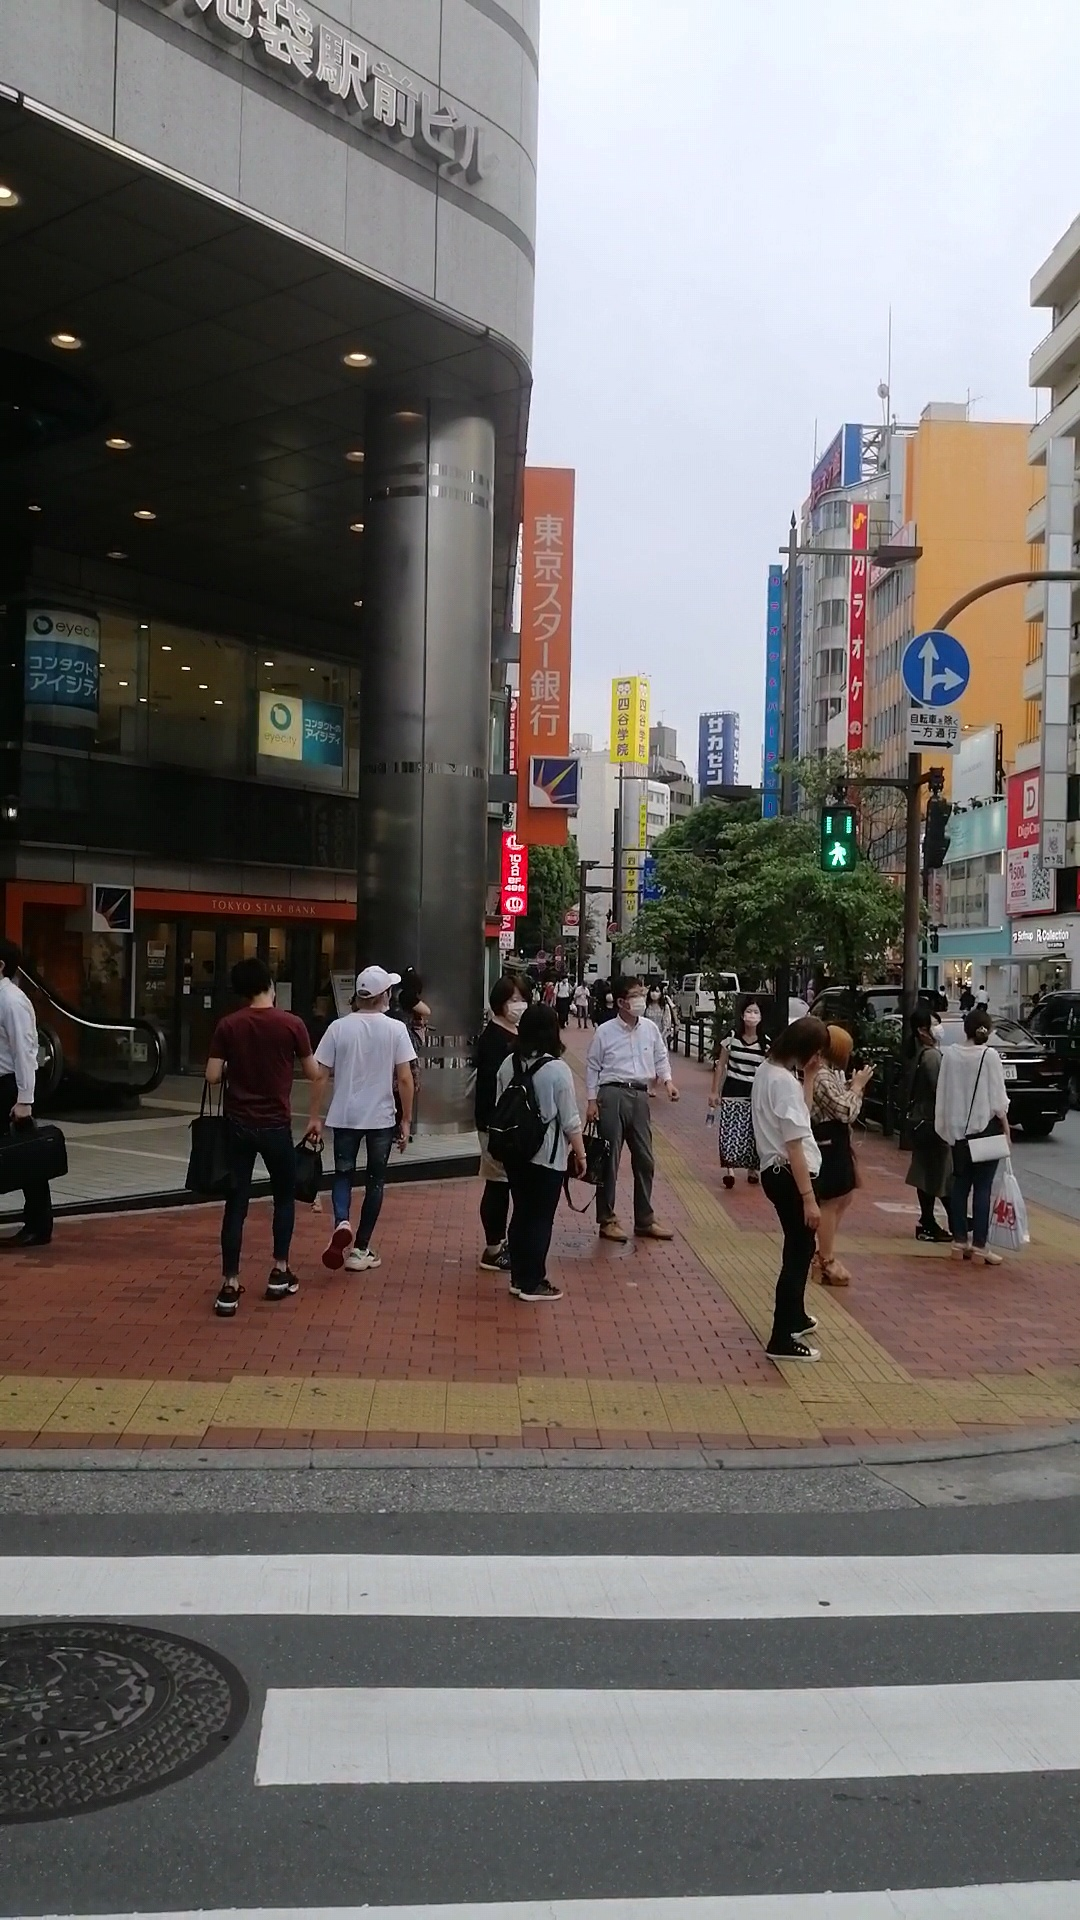green: (822, 807, 858, 870)
